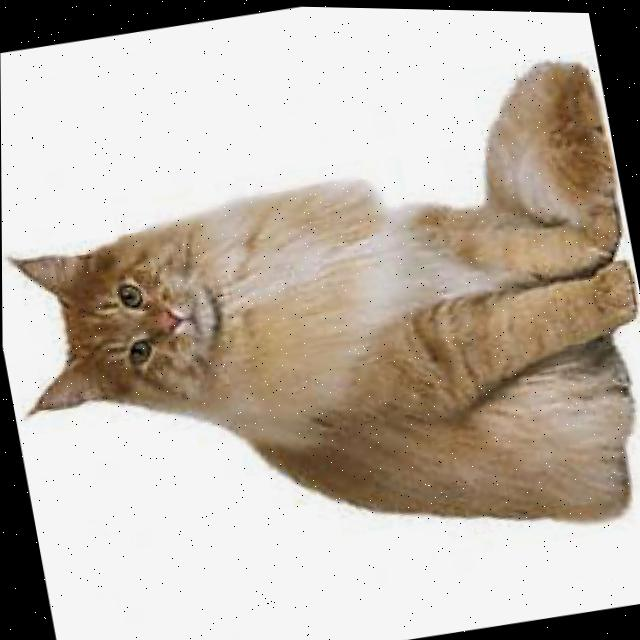Maine Coon: (0, 39, 640, 621)
